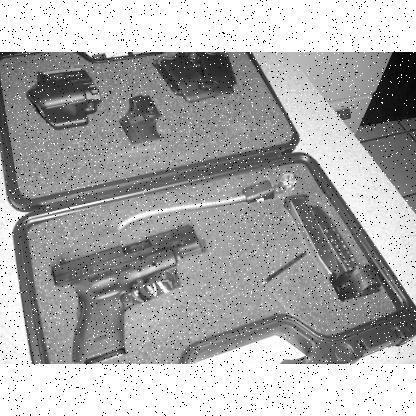gun: (50, 224, 202, 362)
